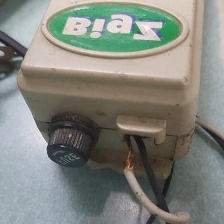three_eye_plug: (11, 0, 209, 182)
